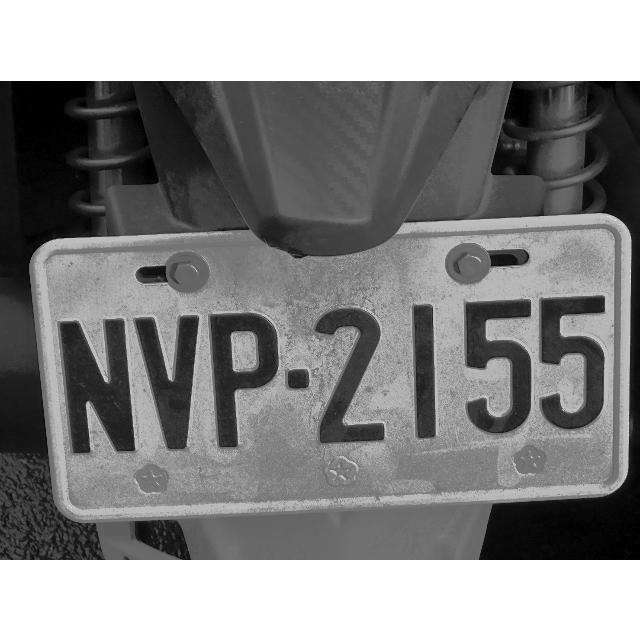-: (284, 367, 314, 395)
1: (404, 300, 444, 448)
2: (313, 303, 389, 445)
5: (538, 294, 612, 432), (461, 296, 533, 436)
N: (56, 317, 138, 461)
P: (206, 311, 282, 454)
V: (134, 314, 202, 452)
